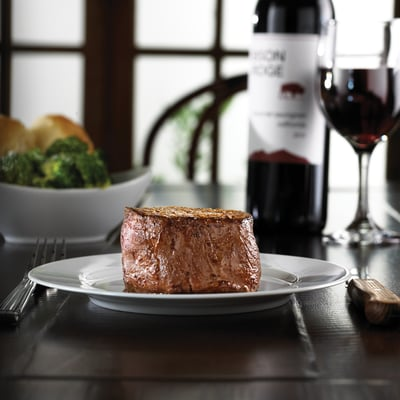curry: (0, 136, 115, 190)
sushi: (0, 121, 153, 244), (0, 162, 153, 245)
